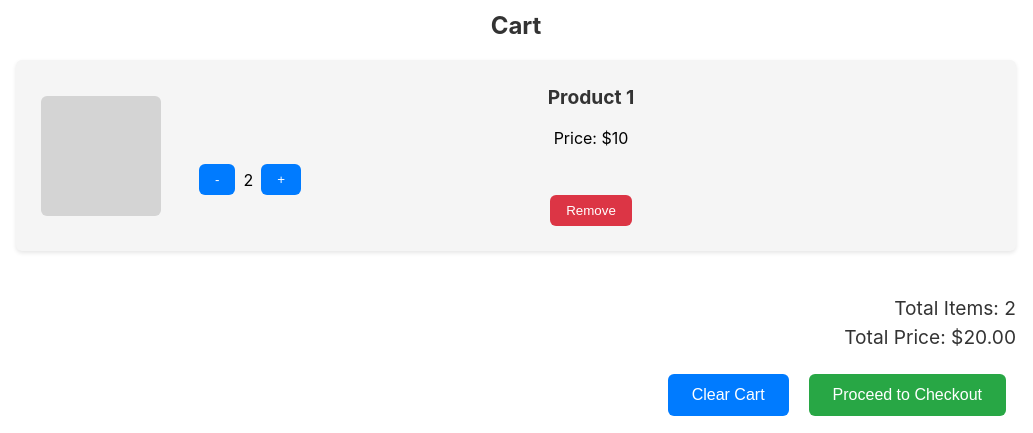
Cart component › updates the quantity of a cart item
This screenshot has width=1033, height=433.
Click the button "+" at (281, 180), box left=261, top=164, right=301, bottom=195
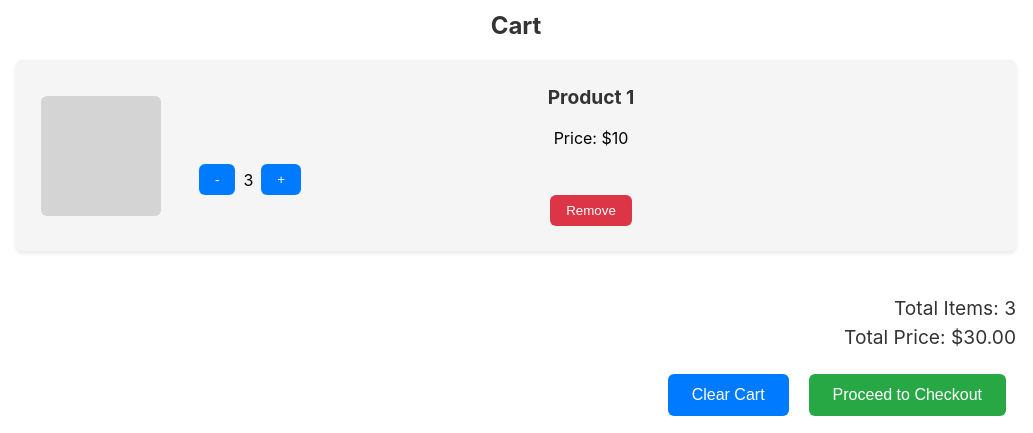
Expected: the text "3" is shown, left=244, top=170, right=253, bottom=190
